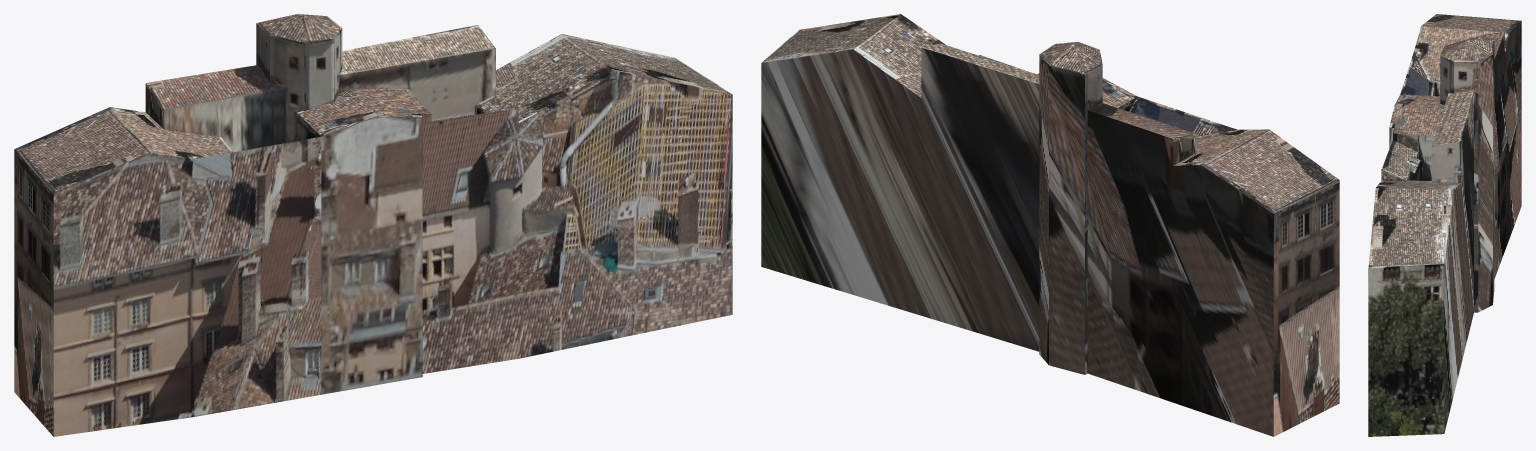
The picture shows the model from 3 angles, left to right: view 1: azimuth 30°, elevation 25°; view 2: azimuth 150°, elevation 25°; view 3: azimuth 270°, elevation 25°; orthographic projection. The views are drawn at different scales.
Visible parts, largest first — view 1: Z_UP; view 2: Z_UP; view 3: Z_UP.
Boxes of the visible parts, x1=… form: Z_UP: x1=14, y1=14, x2=732, y2=436; Z_UP: x1=761, y1=14, x2=1339, y2=436; Z_UP: x1=1368, y1=14, x2=1521, y2=436.
Size of the model in its own units: 52.12 by 26.78 by 14.25.
Materials: 2 (1 with a texture image).
